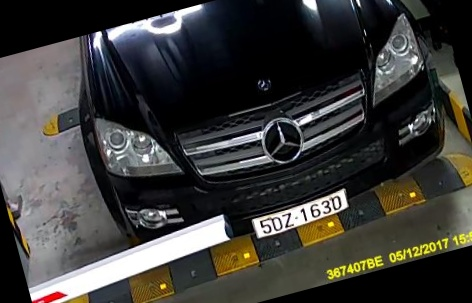plate: (246, 188, 359, 246)
